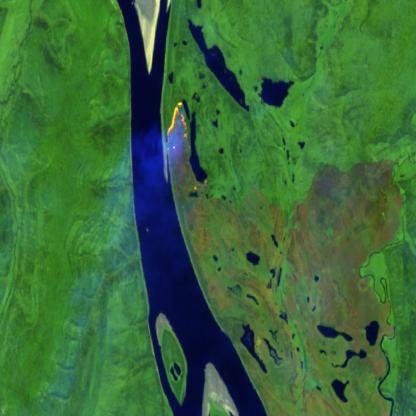fire: (163, 100, 192, 155)
